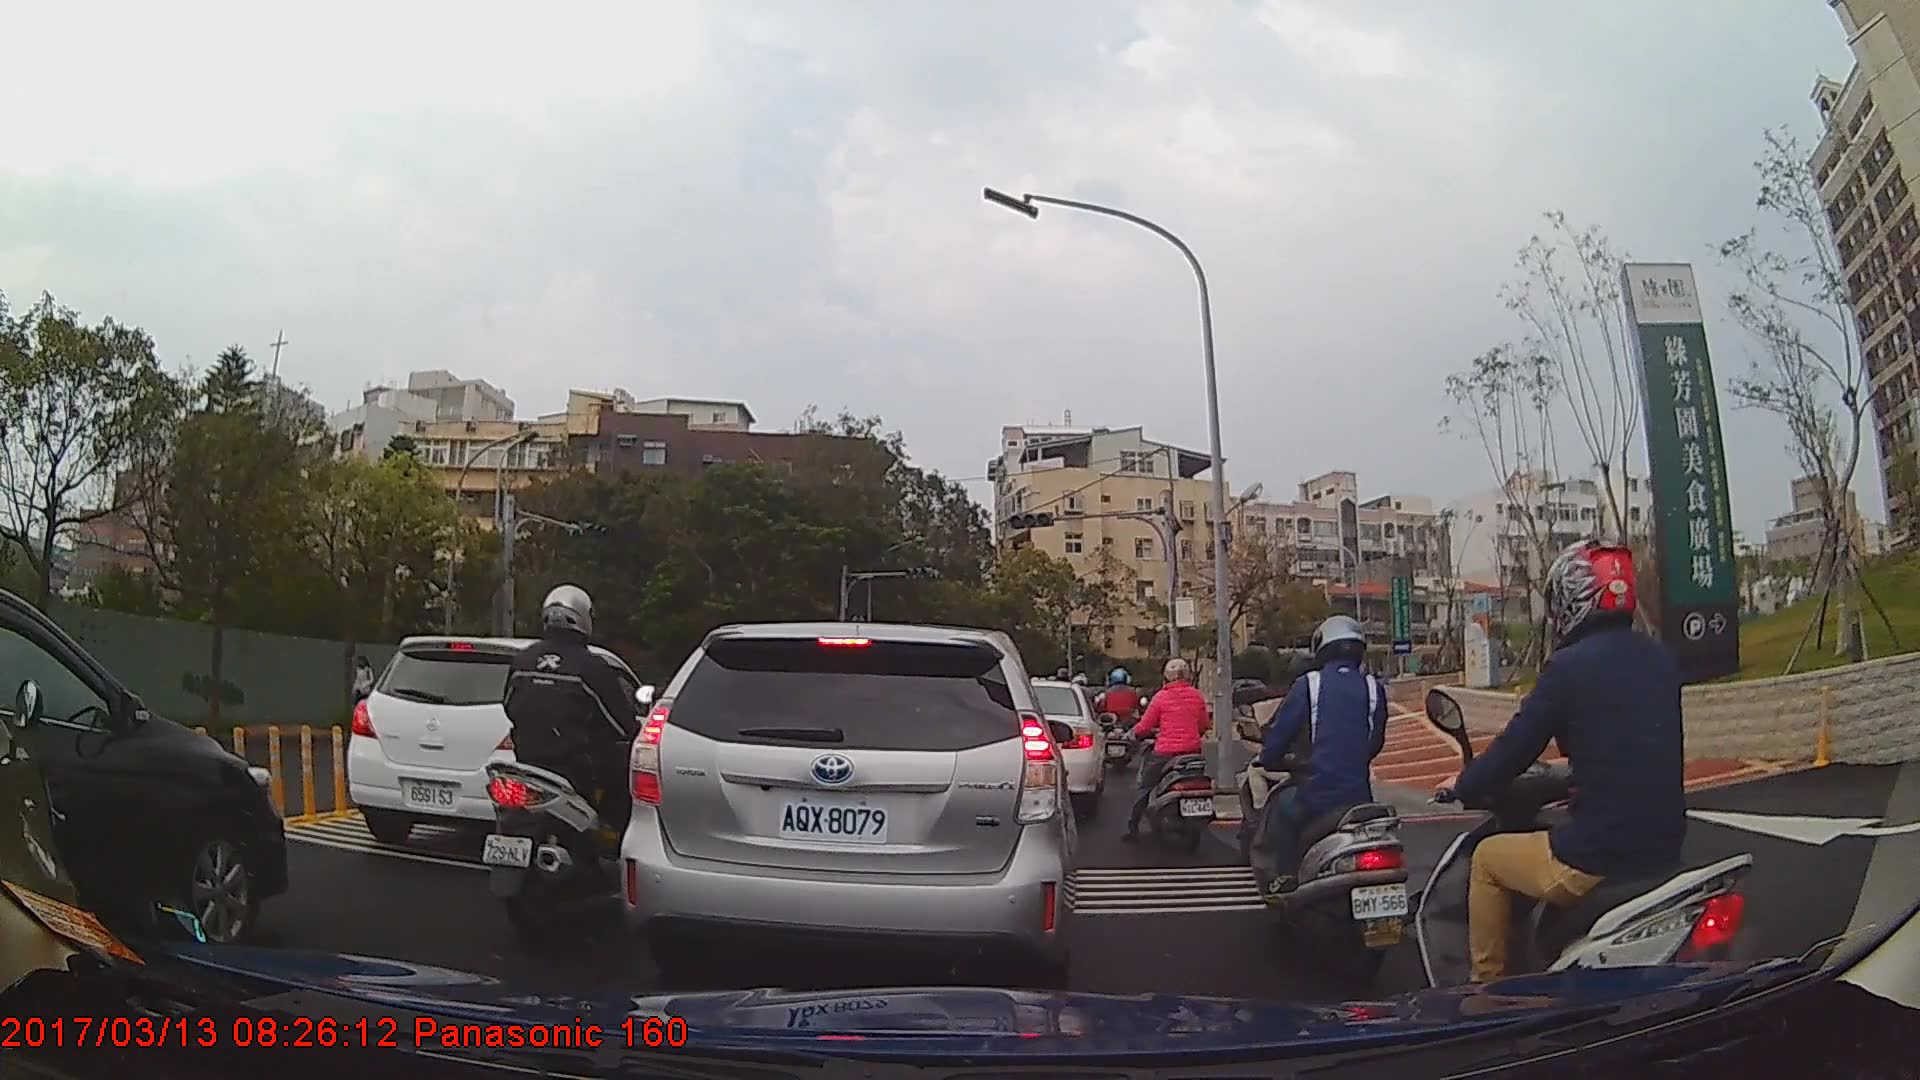pedestrian: (354, 656, 380, 732)
rider: (1427, 527, 1772, 1067), (1244, 615, 1415, 999), (478, 584, 656, 946), (1130, 660, 1221, 856), (1097, 666, 1144, 770)
vehicle: (616, 623, 1079, 1013), (0, 586, 291, 950), (344, 633, 677, 854), (1000, 678, 1107, 813), (1212, 678, 1271, 707)
